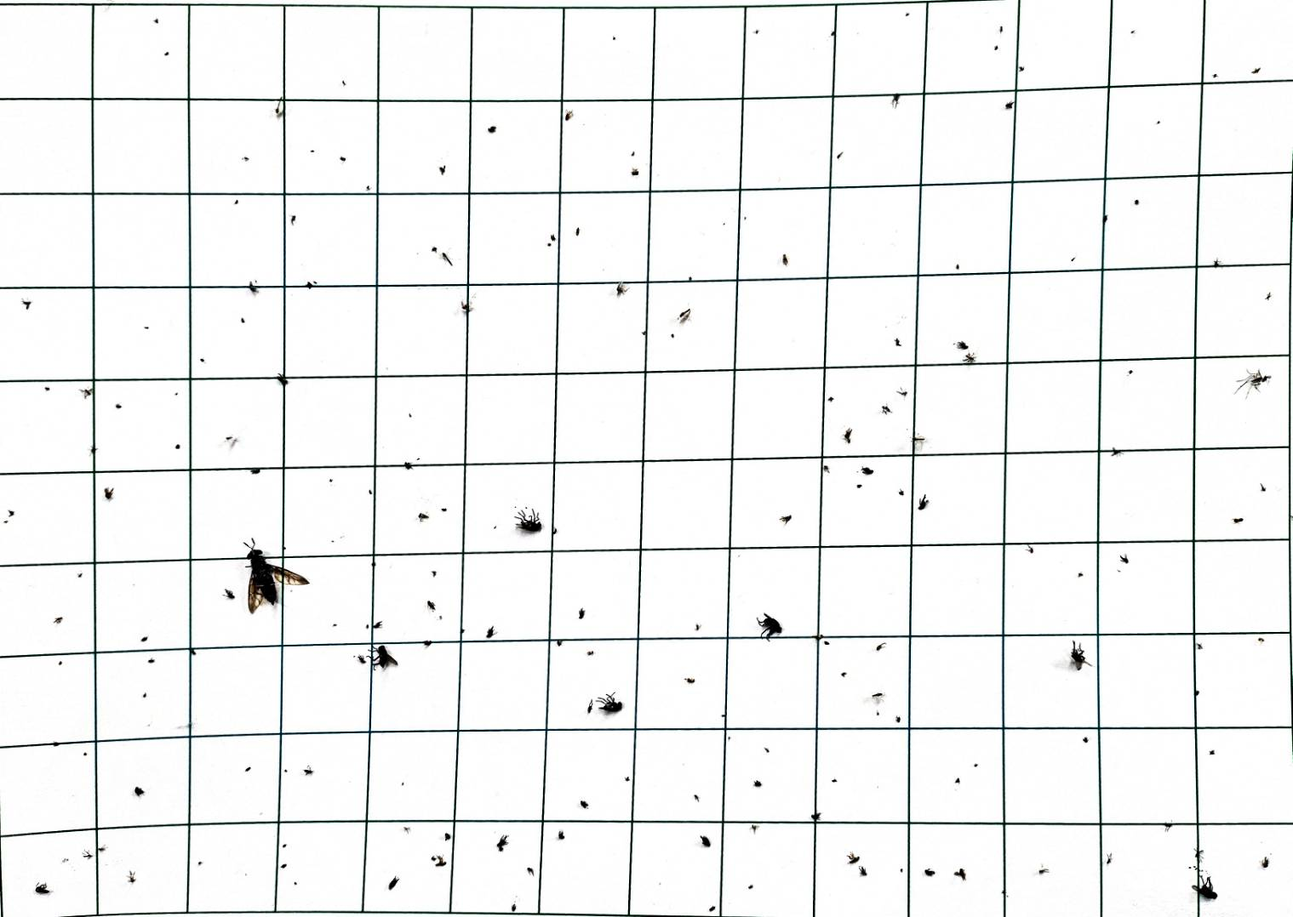fly: (513, 505, 543, 532), (756, 612, 782, 640), (373, 645, 398, 670), (1191, 873, 1215, 899), (595, 691, 622, 713), (1069, 642, 1087, 670)
test: (243, 540, 309, 615), (1233, 368, 1270, 399), (83, 844, 108, 861), (33, 880, 51, 894), (496, 834, 509, 852), (912, 434, 926, 450), (678, 308, 691, 325), (427, 600, 439, 617), (615, 282, 629, 296), (962, 351, 977, 364), (440, 251, 453, 266), (917, 494, 929, 510), (846, 851, 860, 864), (276, 373, 289, 386), (871, 691, 885, 703), (1193, 846, 1205, 860), (699, 834, 711, 848), (78, 388, 93, 399), (176, 721, 194, 730), (842, 428, 852, 444), (461, 301, 473, 314), (434, 855, 447, 867), (953, 868, 966, 880), (1036, 864, 1050, 875), (103, 487, 114, 501), (248, 281, 259, 295), (388, 876, 399, 890), (133, 785, 145, 797), (1260, 855, 1271, 868), (126, 870, 137, 883), (486, 625, 497, 638), (891, 94, 901, 108), (955, 341, 970, 350), (366, 620, 381, 629), (228, 436, 239, 448), (223, 588, 235, 599), (1110, 447, 1123, 457), (779, 515, 792, 525), (860, 466, 874, 475), (991, 43, 1001, 55), (1152, 117, 1161, 130), (512, 895, 519, 911), (1163, 821, 1173, 832), (303, 764, 313, 775), (22, 299, 32, 310), (896, 387, 907, 397), (275, 106, 284, 118), (1119, 553, 1129, 563), (749, 823, 759, 833), (356, 655, 367, 664), (859, 865, 868, 876), (881, 405, 892, 414), (875, 642, 886, 651), (811, 811, 822, 820), (565, 110, 574, 121), (405, 410, 414, 421), (587, 699, 594, 713), (1105, 852, 1113, 864), (924, 868, 936, 876), (548, 233, 556, 245), (902, 8, 909, 21), (88, 445, 98, 454), (1004, 101, 1014, 110), (418, 512, 429, 520), (557, 829, 565, 840), (306, 280, 317, 288), (685, 274, 696, 282), (578, 607, 585, 619), (782, 254, 789, 266), (1213, 258, 1222, 267), (580, 799, 589, 808), (404, 461, 413, 470), (279, 766, 288, 775), (364, 184, 373, 193), (822, 464, 830, 474), (53, 616, 63, 624), (487, 125, 497, 133), (231, 197, 239, 207), (684, 677, 695, 684), (1233, 517, 1244, 524), (608, 31, 615, 42), (1025, 545, 1034, 553), (402, 825, 411, 833), (753, 779, 762, 787), (423, 639, 432, 647), (631, 167, 639, 176), (397, 780, 406, 788), (41, 384, 49, 393), (894, 867, 906, 873), (527, 866, 534, 876), (444, 831, 451, 841), (439, 165, 446, 175), (198, 357, 208, 364), (249, 468, 260, 474), (7, 509, 15, 517), (693, 793, 700, 802), (836, 151, 843, 160), (1251, 67, 1260, 74), (290, 879, 299, 886), (279, 841, 288, 848), (364, 488, 373, 495), (739, 212, 748, 219), (290, 215, 296, 225), (440, 505, 446, 515), (874, 708, 880, 718), (667, 328, 673, 338), (414, 454, 420, 464), (815, 634, 823, 641), (1265, 292, 1272, 300), (895, 338, 902, 346), (1260, 483, 1267, 491), (61, 858, 70, 864), (55, 660, 64, 666), (1103, 213, 1108, 223), (331, 619, 336, 629), (587, 649, 594, 656), (1082, 736, 1089, 743), (1196, 642, 1203, 649), (280, 862, 287, 869), (709, 904, 716, 911), (1018, 65, 1025, 72), (491, 525, 498, 532), (626, 148, 633, 155), (898, 488, 904, 496), (695, 623, 701, 631), (52, 741, 60, 747), (241, 156, 249, 162), (725, 731, 731, 739), (575, 227, 580, 236), (551, 530, 562, 534), (141, 636, 148, 642), (954, 777, 960, 784), (895, 715, 901, 722), (1001, 888, 1007, 895), (764, 747, 770, 754), (431, 246, 437, 253), (115, 403, 122, 409), (245, 765, 251, 772), (827, 396, 834, 402), (823, 640, 830, 646), (191, 648, 197, 655), (556, 640, 563, 646), (753, 29, 760, 35), (173, 388, 179, 395), (142, 323, 149, 329), (457, 626, 464, 632), (147, 658, 155, 663), (307, 147, 312, 155), (1209, 749, 1215, 755), (175, 443, 181, 449), (340, 156, 346, 162), (153, 19, 159, 25), (641, 328, 647, 334), (1258, 637, 1265, 642), (1195, 689, 1200, 696), (625, 775, 630, 782), (831, 777, 838, 782), (830, 30, 835, 37), (999, 25, 1003, 33), (841, 672, 847, 677), (431, 570, 436, 576), (1077, 572, 1083, 577), (1128, 369, 1134, 374), (1134, 199, 1139, 205), (143, 692, 148, 698), (973, 762, 979, 767), (748, 884, 754, 889), (856, 483, 862, 488), (240, 317, 245, 323), (197, 860, 202, 866), (77, 572, 83, 577), (1070, 256, 1075, 262), (164, 51, 170, 56), (1212, 73, 1218, 78), (82, 750, 88, 755), (327, 477, 332, 483), (338, 80, 342, 87), (1130, 30, 1135, 35), (956, 264, 960, 270), (719, 712, 725, 716), (1, 520, 7, 522)
